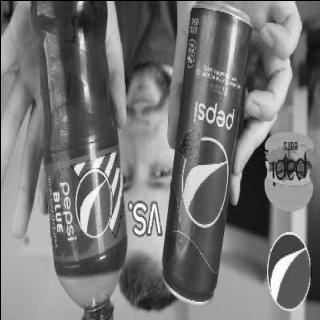alumunium_can: (160, 2, 252, 307)
